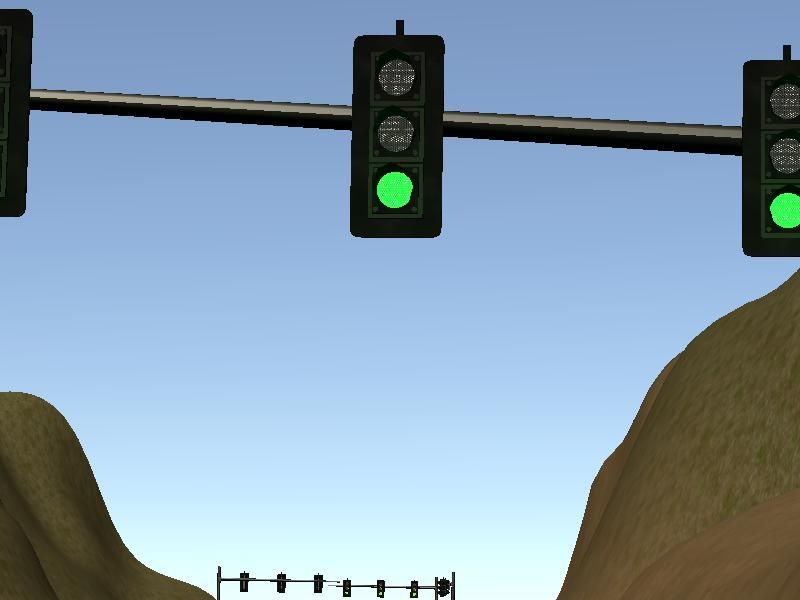GREEN: (348, 35, 444, 239), (740, 58, 800, 258)
